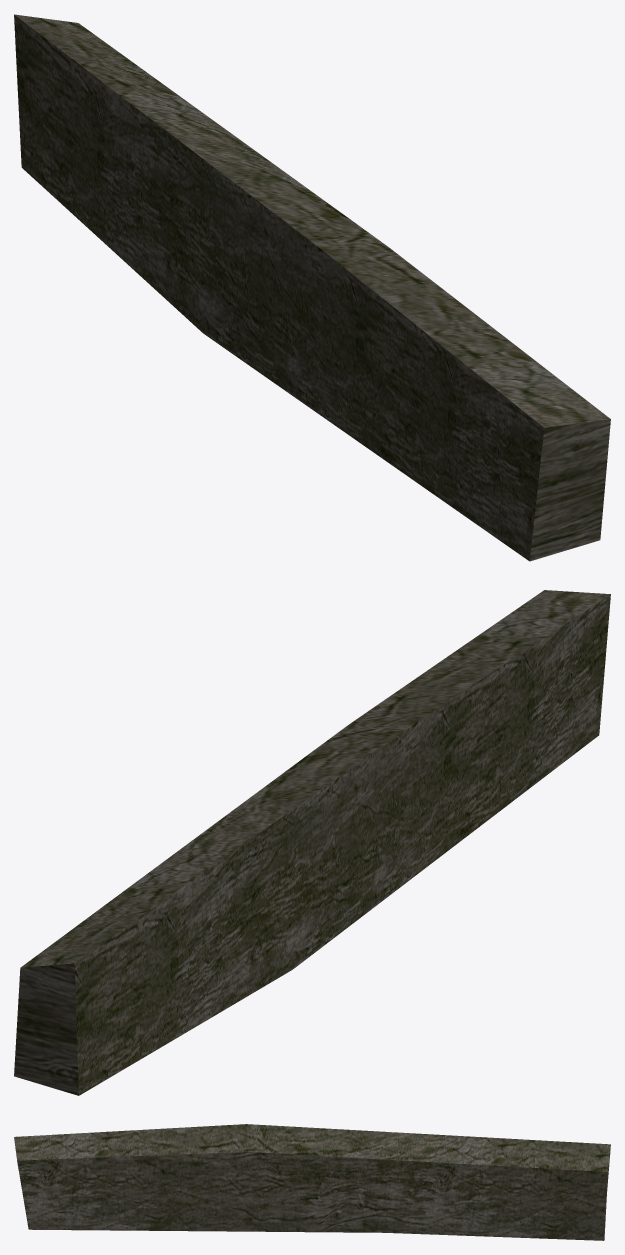
File: TI_Plank_S_02.fbx
3 renders of one model, top to bottom at view 1: azimuth 30°, elevation 25°; view 2: azimuth 150°, elevation 25°; view 3: azimuth 270°, elevation 25°, orthographic. The views are drawn at different scales.
Visible parts, largest first — view 1: TI_Plank_S_02; view 2: TI_Plank_S_02; view 3: TI_Plank_S_02.
Part boxes in pixels (left/top/right/bottom): TI_Plank_S_02: left=14, top=14, right=610, bottom=561; TI_Plank_S_02: left=14, top=590, right=610, bottom=1095; TI_Plank_S_02: left=14, top=1124, right=610, bottom=1240.
Bounding box in the file's own units: 0.157 × 0.2563 × 1.45.
